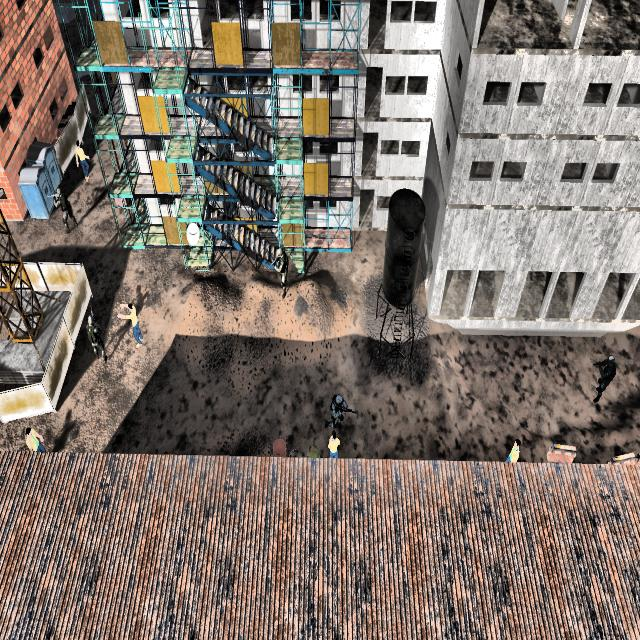bad: (590, 350, 618, 422), (48, 185, 78, 237), (85, 302, 106, 376), (326, 381, 355, 431), (271, 242, 293, 305)
good: (117, 292, 144, 356), (23, 412, 49, 456), (73, 137, 95, 184), (503, 435, 521, 467), (325, 430, 341, 458)
